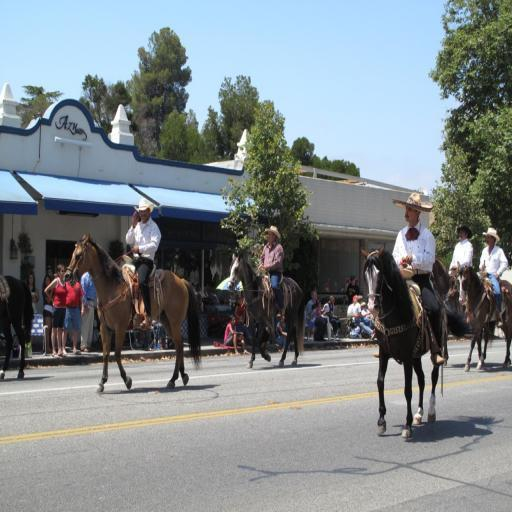horse: (60, 234, 204, 395), (365, 241, 474, 434), (225, 253, 305, 369), (430, 254, 486, 371), (456, 260, 512, 372), (0, 274, 36, 382)
